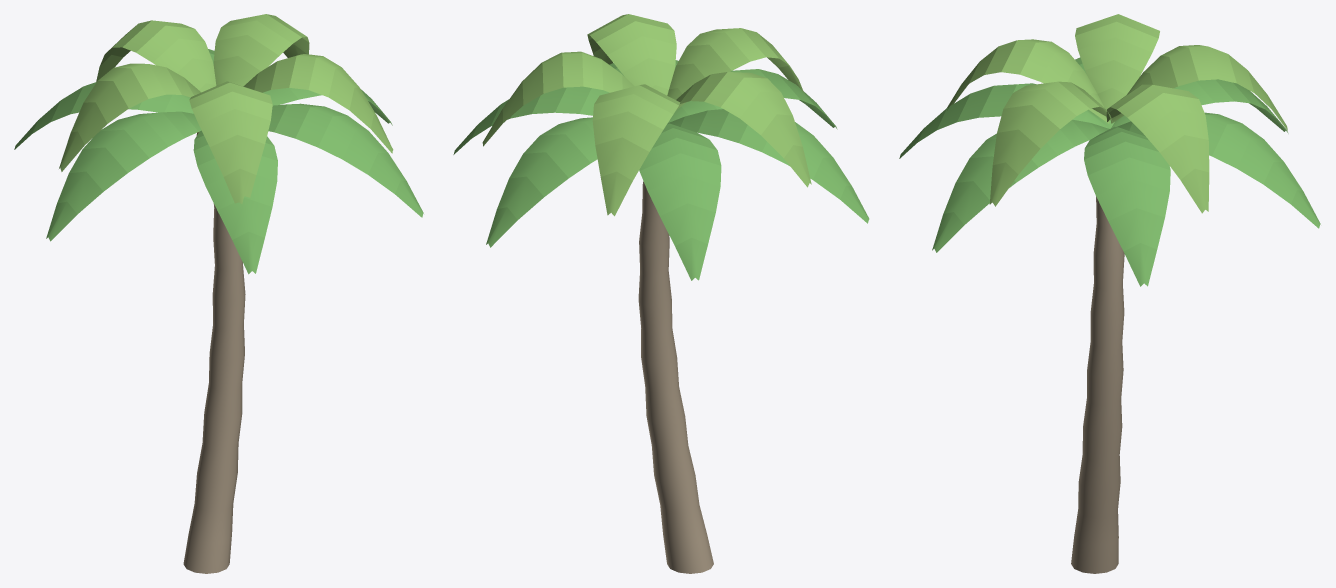
File: palm_tree.glb
The picture shows the model from 3 angles, left to right: view 1: azimuth 30°, elevation 25°; view 2: azimuth 150°, elevation 25°; view 3: azimuth 270°, elevation 25°; orthographic projection. The views are drawn at different scales.
Parts seen in each view (by area): view 1: PalmTrunk, Frond_Low_3, Frond_High_3, Frond_Low_5, Frond_Low_4, Frond_High_2, Frond_High_0, Frond_High_1, Frond_High_4, Frond_Low_2, Frond_Low_0; view 2: PalmTrunk, Frond_Low_2, Frond_High_1, Frond_Low_1, Frond_High_2, Frond_High_4, Frond_Low_3, Frond_High_3, Frond_High_0, Frond_Low_0, Frond_Low_4; view 3: PalmTrunk, Frond_Low_0, Frond_High_0, Frond_High_4, Frond_High_2, Frond_Low_5, Frond_Low_1, Frond_High_3, Frond_High_1, Frond_Low_4, Frond_Low_2.
Part boxes in pixels (x1,y1,x2,y2): PalmTrunk: (183,203,245,573); Frond_Low_3: (46,111,201,241); Frond_High_3: (189,81,272,203); Frond_Low_5: (268,103,423,217); Frond_Low_4: (193,130,277,274); Frond_High_2: (59,63,201,171); Frond_High_0: (213,14,309,86); Frond_High_1: (96,20,216,92); Frond_High_4: (243,54,393,153); Frond_Low_2: (14,82,193,149); Frond_Low_0: (263,87,392,125); PalmTrunk: (638,181,713,573); Frond_Low_2: (639,123,721,280); Frond_High_1: (592,84,680,216); Frond_Low_1: (486,117,597,247); Frond_High_2: (676,72,811,187); Frond_High_4: (587,14,676,95); Frond_Low_3: (668,109,869,223); Frond_High_3: (667,28,803,110); Frond_High_0: (482,51,634,146); Frond_Low_0: (453,86,609,154); Frond_Low_4: (668,69,837,129); PalmTrunk: (1071,196,1124,573); Frond_Low_0: (1084,126,1170,286); Frond_High_0: (1106,84,1209,213); Frond_High_4: (989,81,1112,206); Frond_High_2: (1075,14,1159,122); Frond_Low_5: (932,119,1109,252); Frond_Low_1: (1117,112,1320,228); Frond_High_3: (947,39,1110,123); Frond_High_1: (1110,45,1287,130); Frond_Low_4: (899,83,1109,158); Frond_Low_2: (1111,79,1288,133).
Bounding box in the file's own units: 7.14 × 9.14 × 6.75.
